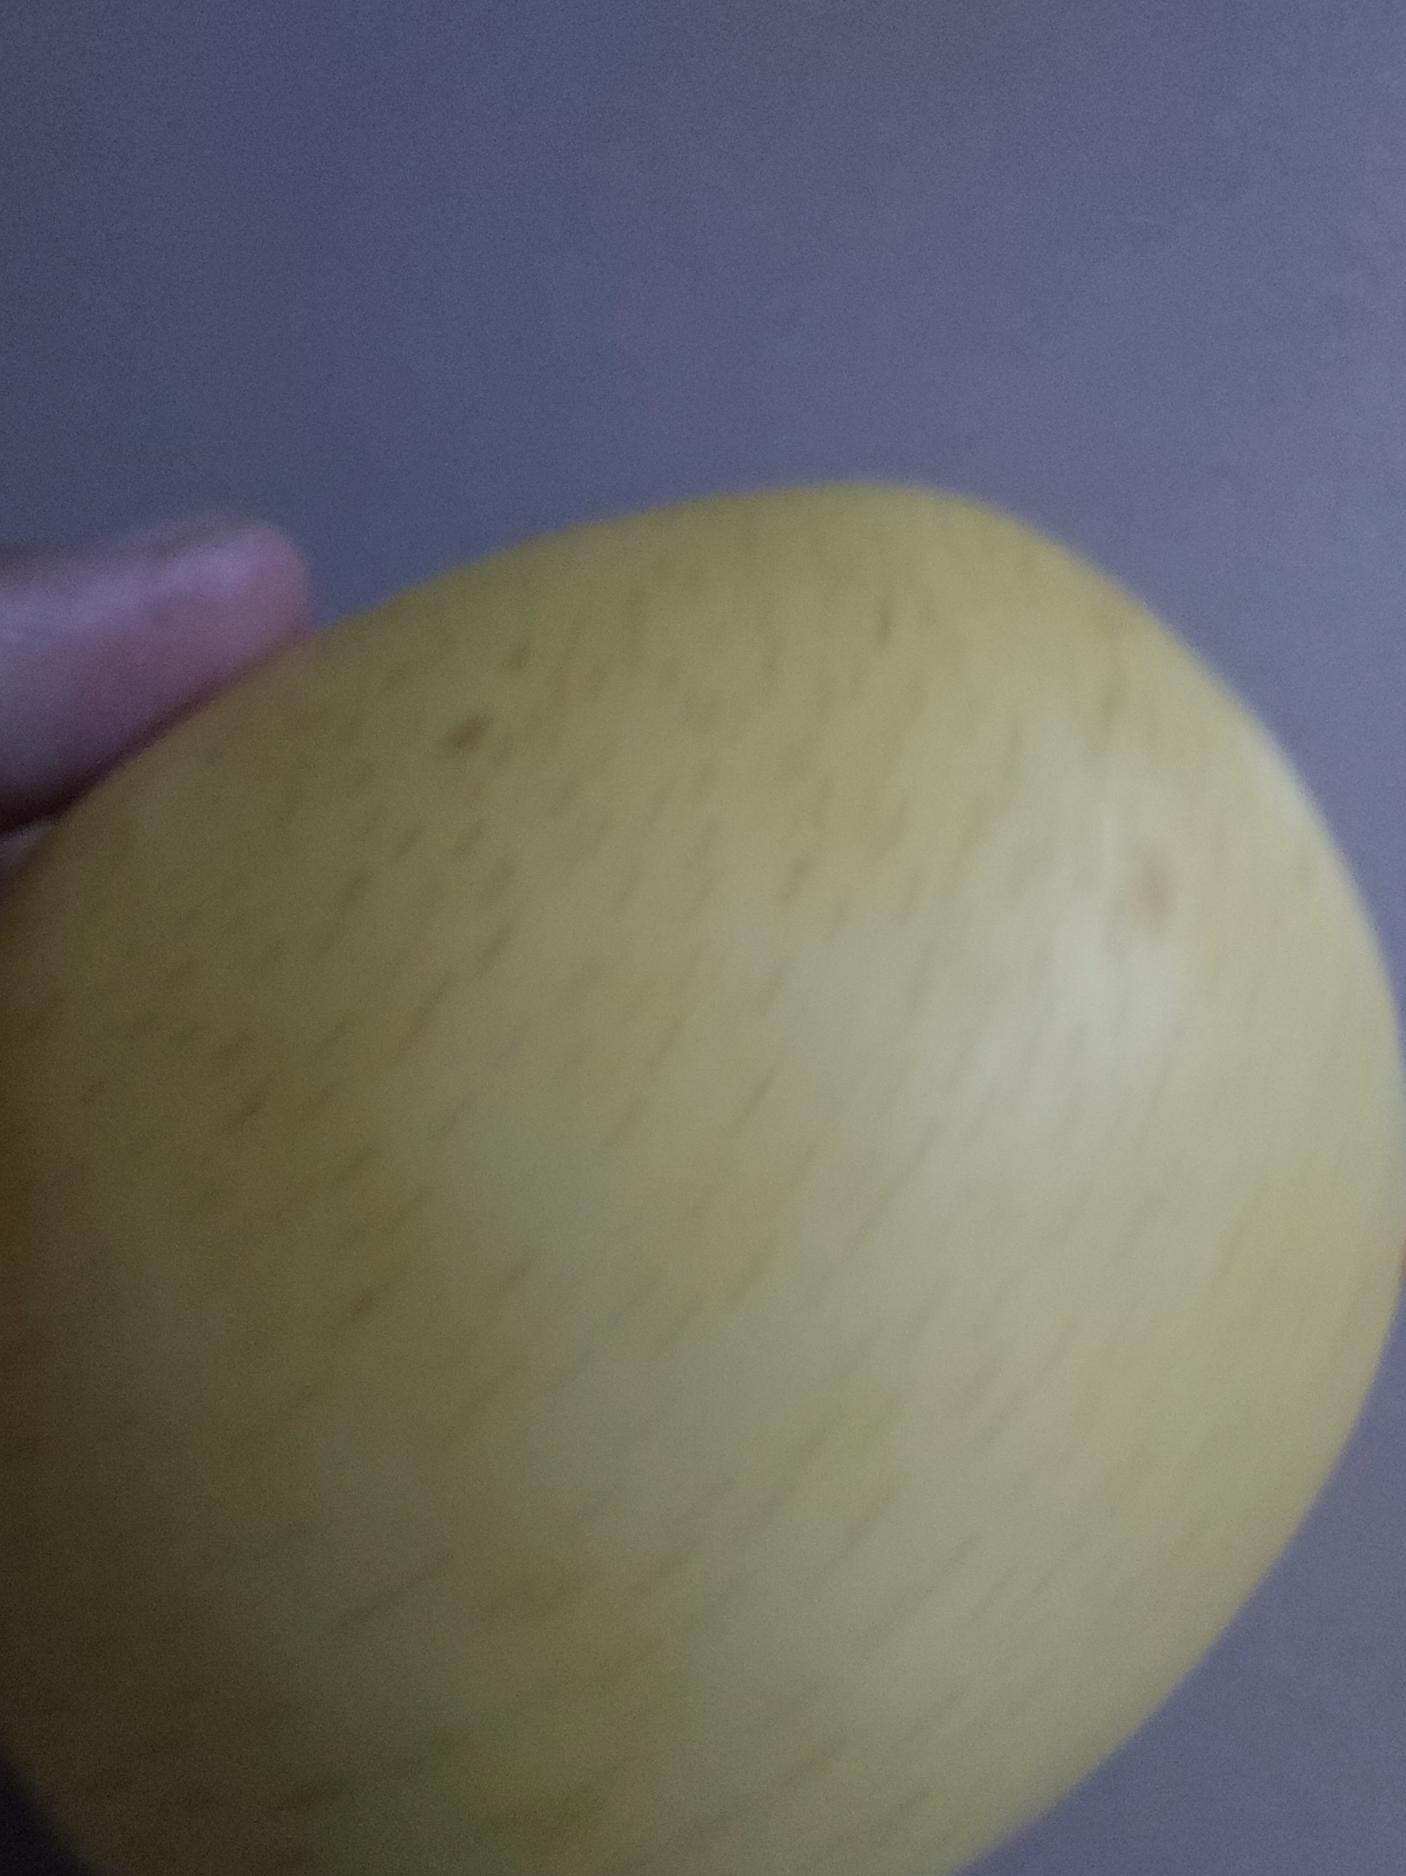Good Pear: (0, 448, 1406, 1876)
